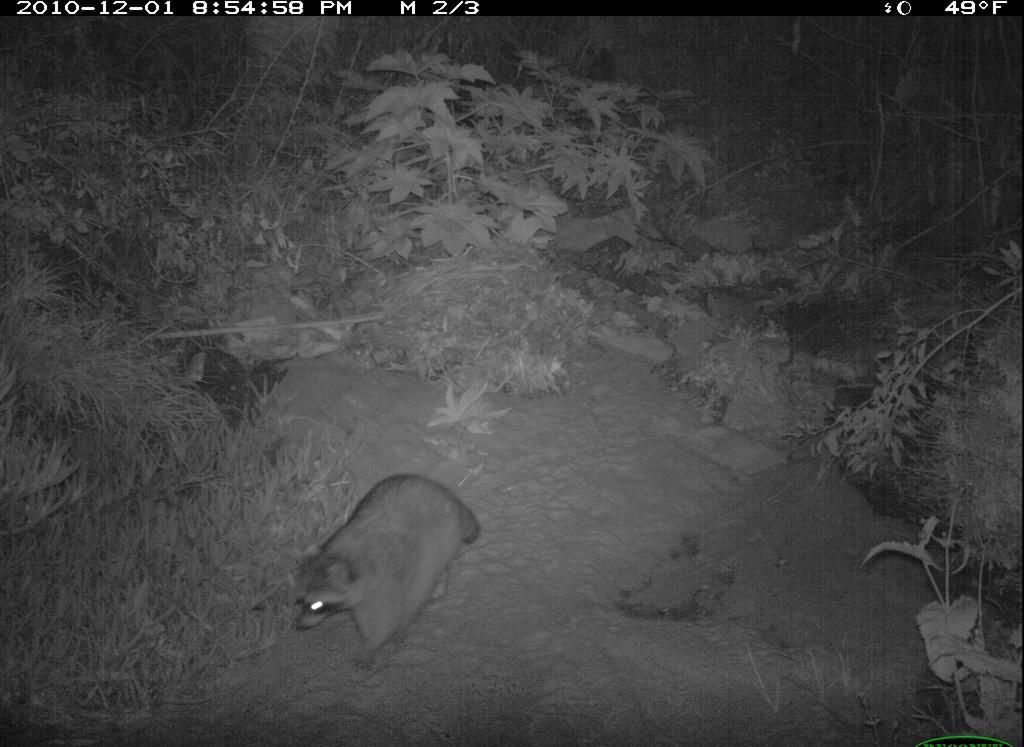raccoon: (278, 464, 495, 684)
